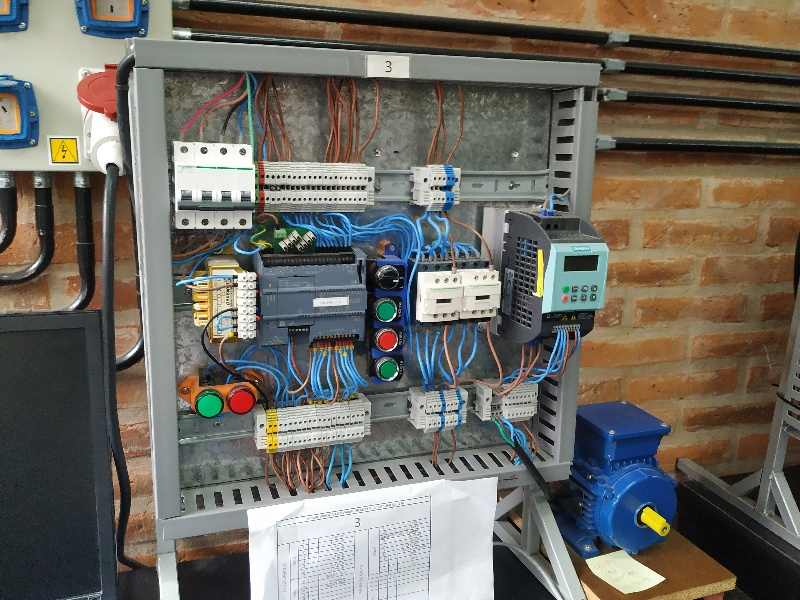Tablero 3: (154, 57, 610, 503)
